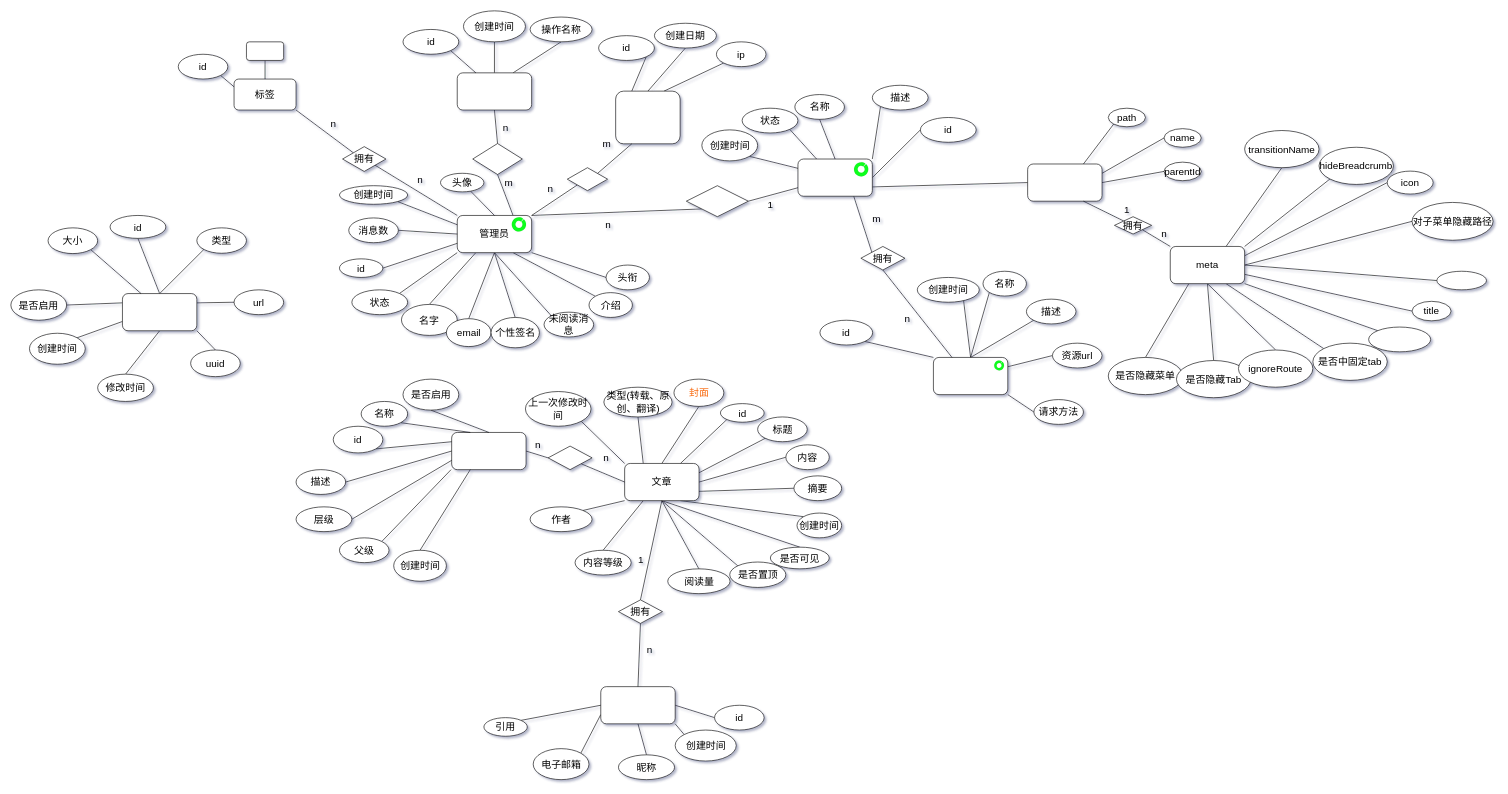
Some shapes in this 1508 by 794 pixel diagram are drawn without their labels. The shapes that lost their labels are listed below. From the top down, each one's box as (x1, y1, x2, y2) in pixels, then its label:
(246, 41, 284, 60): label
(457, 72, 532, 110): 操作日志
(615, 91, 680, 144): 后台用户登录日志表
(472, 143, 522, 175): 生成
(567, 167, 608, 191): 创建
(797, 158, 872, 196): 角色
(686, 185, 748, 217): 属于
(1027, 163, 1102, 201): 菜单
(1436, 271, 1486, 290): order
(122, 293, 197, 331): 文件
(1368, 326, 1431, 352): 是否使用缓存
(933, 357, 1008, 395): 资源
(451, 432, 526, 470): 类别
(547, 445, 592, 470): 分类
(600, 686, 675, 724): 评论
